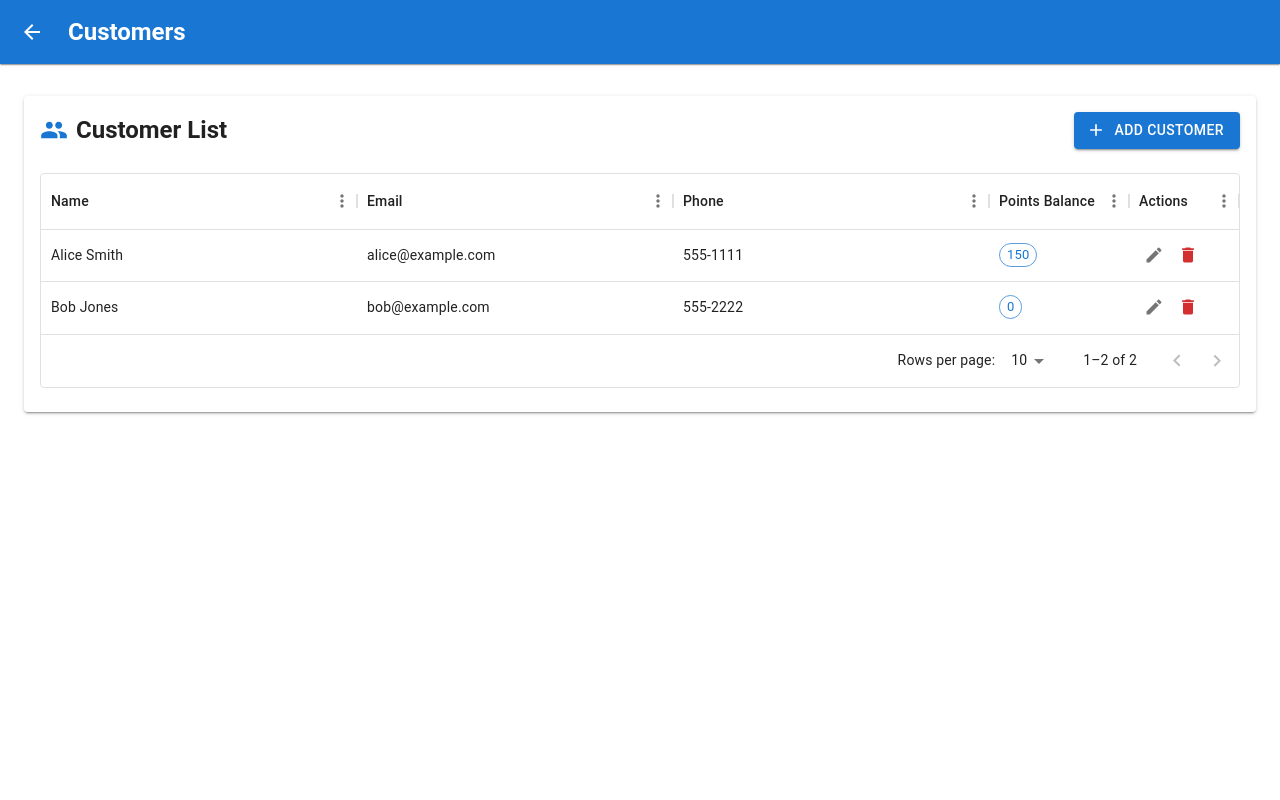
Test case: CustomersPage › Add Customer dialog › opens Add Customer dialog when button is clicked
Step 1. Click the button "Add Customer" → (1157, 130), box left=1074, top=112, right=1240, bottom=148
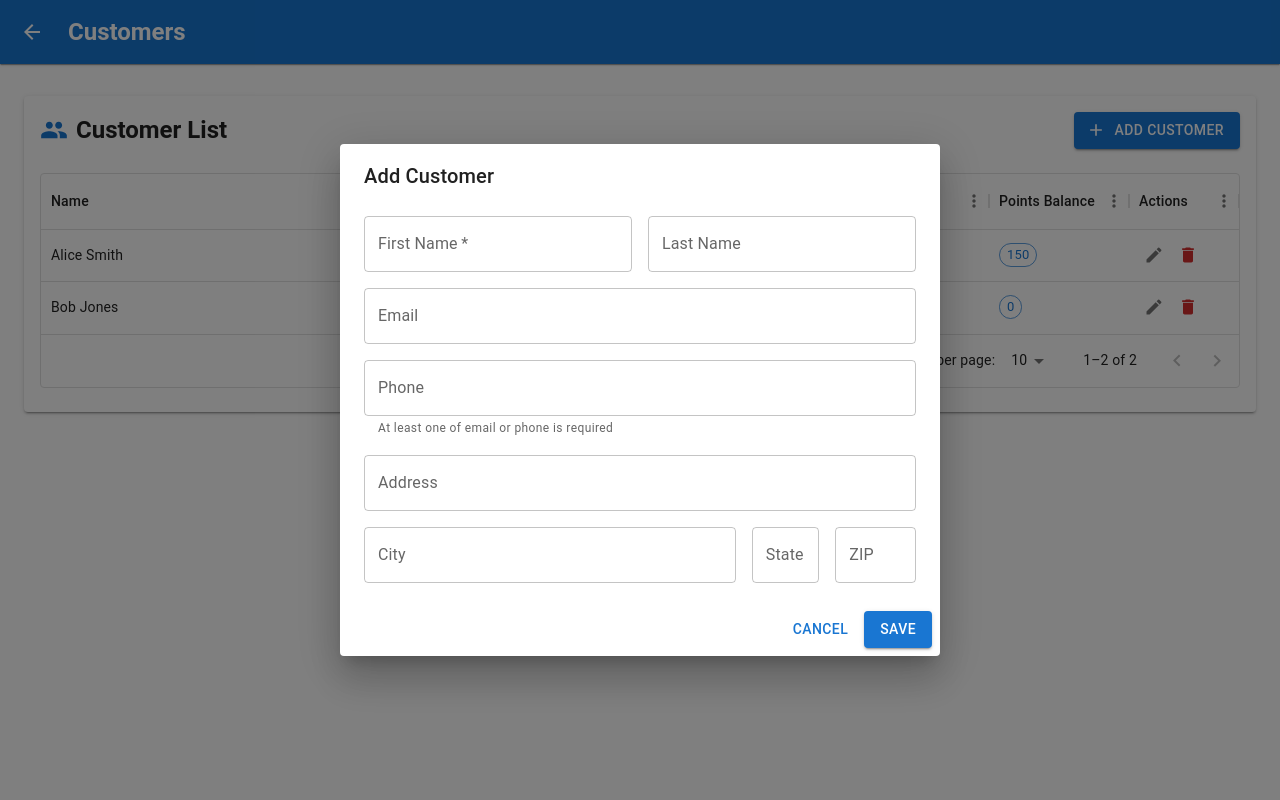
Result: the dialog is shown at left=340, top=144, right=940, bottom=656
Result: the heading "Add Customer" is shown at left=364, top=164, right=494, bottom=188
